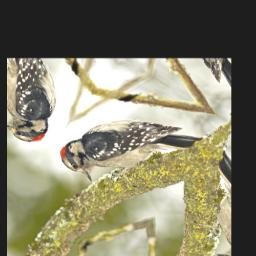Woodpecker: (51, 77, 212, 215)
